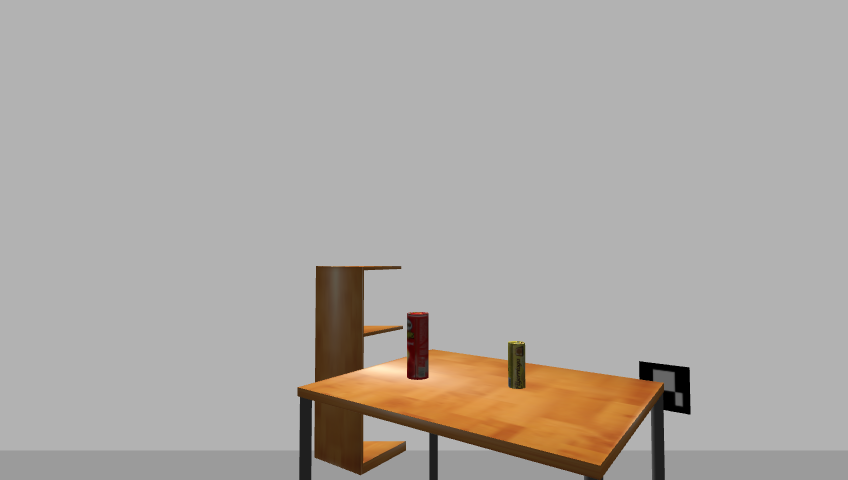aruco marker: (635, 360, 696, 417)
biscuits pack: (507, 341, 527, 390)
bookshelf: (307, 262, 409, 479)
dinner table: (291, 351, 675, 480)
pringles can: (404, 311, 430, 382)
